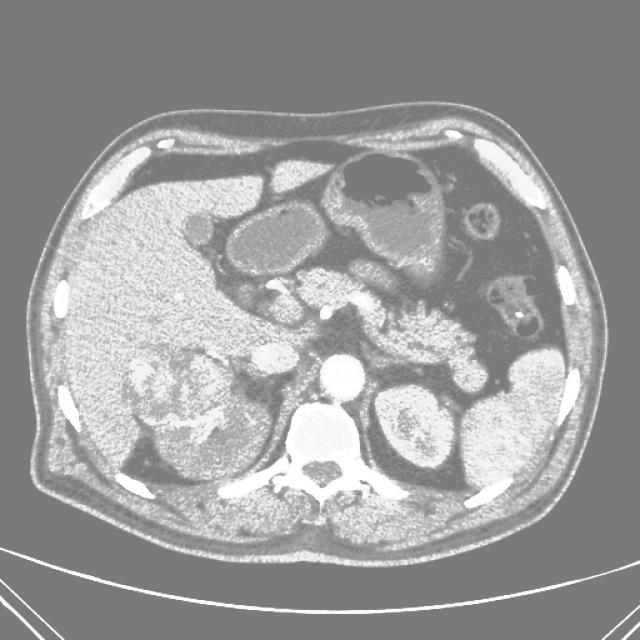TUMOR: (89, 231, 470, 422)
